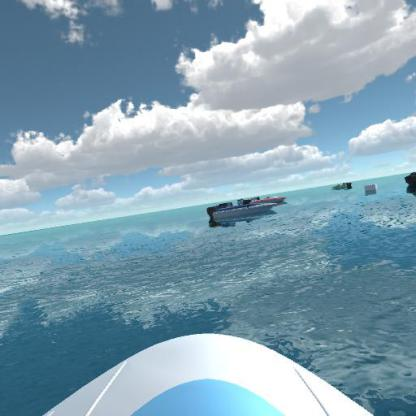usv0: (330, 176, 352, 193)
usv1: (206, 200, 283, 224), (397, 167, 415, 195)
usv3: (240, 191, 289, 206)
